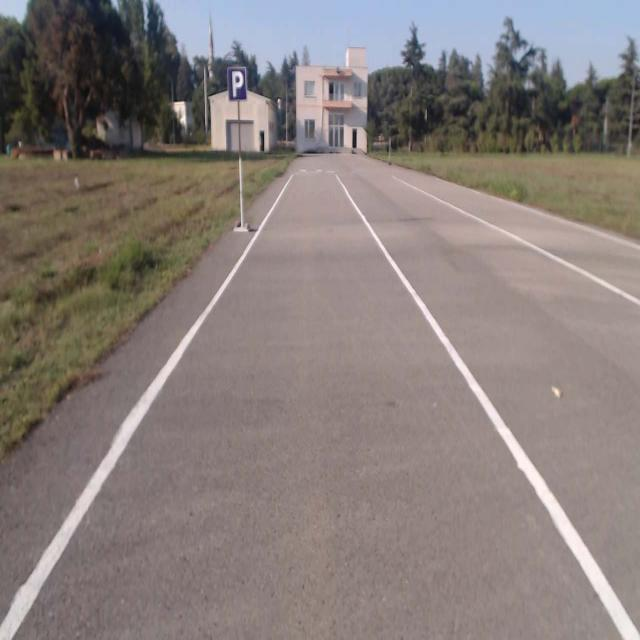park: (228, 65, 247, 98)
